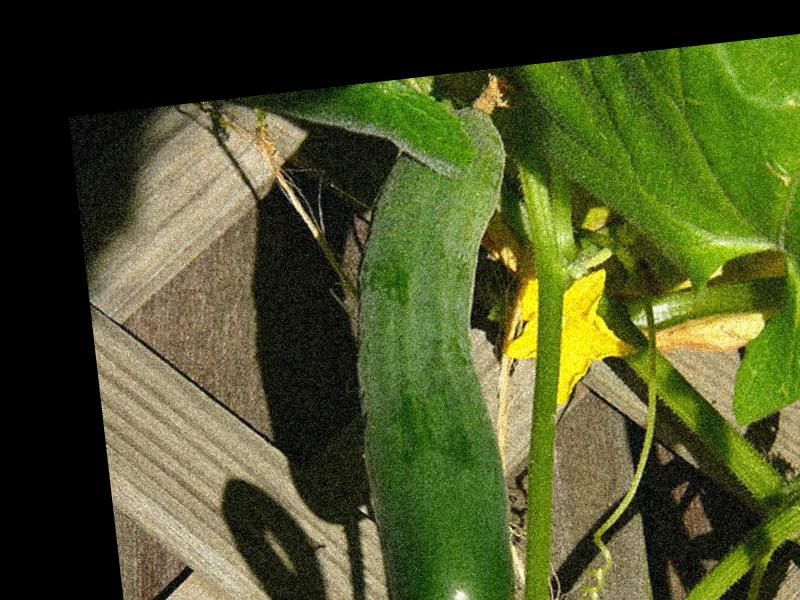Cucumber: (321, 74, 560, 600)
